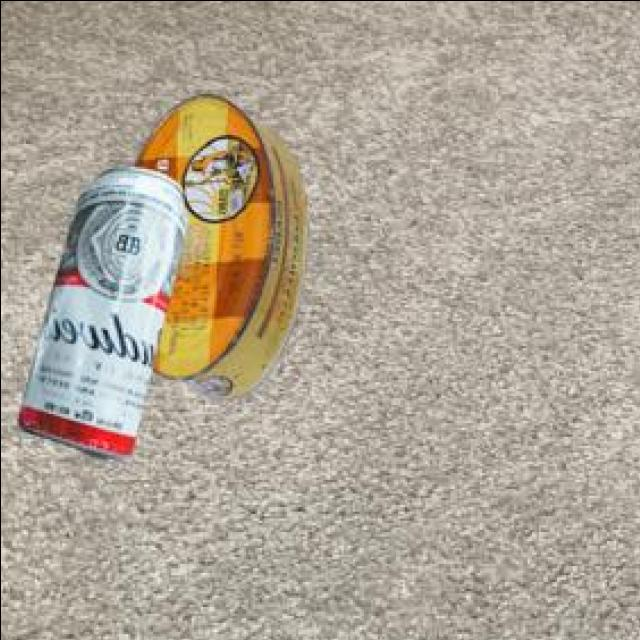logam: (137, 90, 310, 396), (22, 162, 192, 455)
